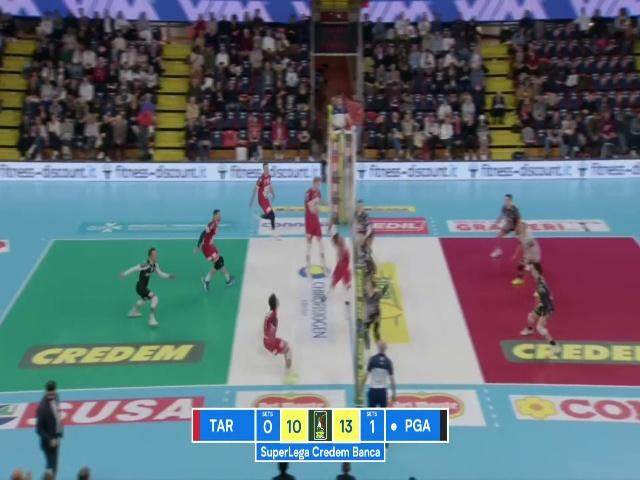volleyball court: (1, 232, 638, 391)
